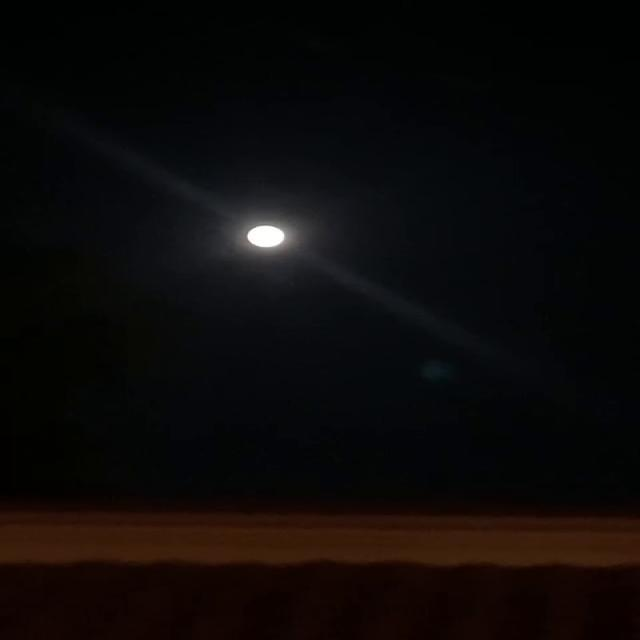moon: (238, 221, 290, 252)
